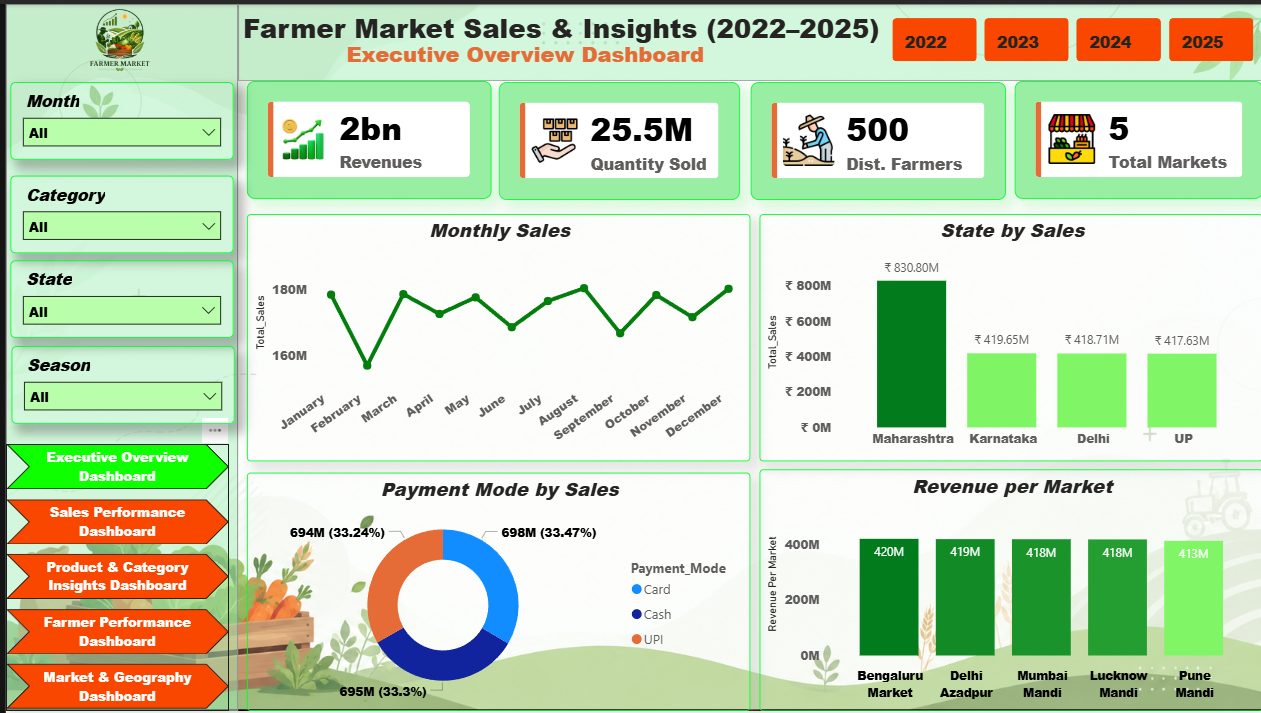

The page's visual inventory and layout, read from the dashboard file:
{"tool":"powerbi","page":{"name":"Executive Overview Dashboard ","canvas":[1280,720],"ordinal":0},"visuals":[{"type":"shape","box":[0,0,236.3,720.2],"z":0},{"type":"shape","box":[236.3,0,1044,78.4],"z":1000},{"type":"textbox","box":[236.3,0,664.2,59.4],"z":2000},{"type":"textbox","box":[341.6,30.2,405.5,48.2],"z":3000},{"type":"image","box":[65,0,101.9,79.5],"z":4000},{"type":"cardVisual","fields":{"Data":["Sum(farmmarket_Dataset.Quantity_Sold)"]},"box":[501.8,79.5,245.3,119.9],"z":5000},{"type":"cardVisual","fields":{"Data":["Count(farmmarket_Dataset.Farmer_ID)"]},"box":[758.3,79.5,259.9,119.9],"z":6000},{"type":"cardVisual","fields":{"Data":["Count(farmmarket_Dataset.Market_ID)"]},"box":[1027.2,78.4,253.2,119.9],"z":7000},{"type":"cardVisual","fields":{"Data":["Sum(farmmarket_Dataset.Total_Sales)"]},"box":[245.3,78.4,248.7,119.9],"z":8000},{"type":"slicer","fields":{"Values":["farmmarket_Dataset.Category"]},"box":[4.5,174.7,227.4,79.5],"z":9000},{"type":"slicer","fields":{"Values":["farmmarket_Dataset.Date.Variation.Date Hierarchy.Month"]},"box":[4.5,79.5,227.4,79.5],"z":10000},{"type":"slicer","fields":{"Values":["farmmarket_Dataset.State"]},"box":[4.5,261,227.4,79.5],"z":11000},{"type":"pageNavigator","box":[0,448.1,227.4,272.2],"z":12000},{"type":"lineChart","title":"Monthly Sales","fields":{"Category":["farmmarket_Dataset.Date.Variation.Date Hierarchy.Month"],"Y":["Sum(farmmarket_Dataset.Total_Sales)"]},"box":[245.3,213.9,513,252],"z":13000},{"type":"donutChart","title":"Payment Mode by Sales","fields":{"Y":["Sum(farmmarket_Dataset.Total_Sales)"],"Category":["farmmarket_Dataset.Payment_Mode"]},"box":[245.3,477.2,513,243.1],"z":14000},{"type":"columnChart","title":"State by Sales","fields":{"Y":["Sum(farmmarket_Dataset.Total_Sales)"],"Category":["farmmarket_Dataset.State"]},"box":[767.3,213.9,513,252],"z":15000},{"type":"columnChart","title":"Revenue per Market","fields":{"Category":["farmmarket_Dataset.Market_Name"],"Y":["farmmarket_Dataset.Revenue Per Market"]},"box":[767.3,473.8,513,246.4],"z":16000},{"type":"slicer","fields":{"Values":["farmmarket_Dataset.Season"]},"box":[5.6,348.4,227.4,79.5],"z":17000},{"type":"advancedSlicerVisual","fields":{"Values":["farmmarket_Dataset.Date.Variation.Date Hierarchy.Year"]},"box":[897.2,9,379.7,54.9],"z":18000}]}

Visuals, with their boxes in screenshot pixels (x1, y1, x2, y2), scaled from the page's 1280x720 canvas onto the 1261x713 screenshot:
shape: l=0, t=0, r=233, b=712
shape: l=233, t=0, r=1260, b=78
textbox: l=233, t=0, r=887, b=59
textbox: l=337, t=30, r=736, b=78
image: l=64, t=0, r=164, b=79
cardVisual - Sum(farmmarket_Dataset.Quantity_Sold): l=494, t=79, r=736, b=197
cardVisual - Count(farmmarket_Dataset.Farmer_ID): l=747, t=79, r=1003, b=197
cardVisual - Count(farmmarket_Dataset.Market_ID): l=1012, t=78, r=1260, b=196
cardVisual - Sum(farmmarket_Dataset.Total_Sales): l=242, t=78, r=487, b=196
slicer - farmmarket_Dataset.Category: l=4, t=173, r=228, b=252
slicer - farmmarket_Dataset.Date.Variation.Date Hierarchy.Month: l=4, t=79, r=228, b=157
slicer - farmmarket_Dataset.State: l=4, t=258, r=228, b=337
pageNavigator: l=0, t=444, r=224, b=712
"Monthly Sales" lineChart: l=242, t=212, r=747, b=461
"Payment Mode by Sales" donutChart: l=242, t=473, r=747, b=712
"State by Sales" columnChart: l=756, t=212, r=1260, b=461
"Revenue per Market" columnChart: l=756, t=469, r=1260, b=712
slicer - farmmarket_Dataset.Season: l=6, t=345, r=230, b=424
advancedSlicerVisual - farmmarket_Dataset.Date.Variation.Date Hierarchy.Year: l=884, t=9, r=1258, b=63
